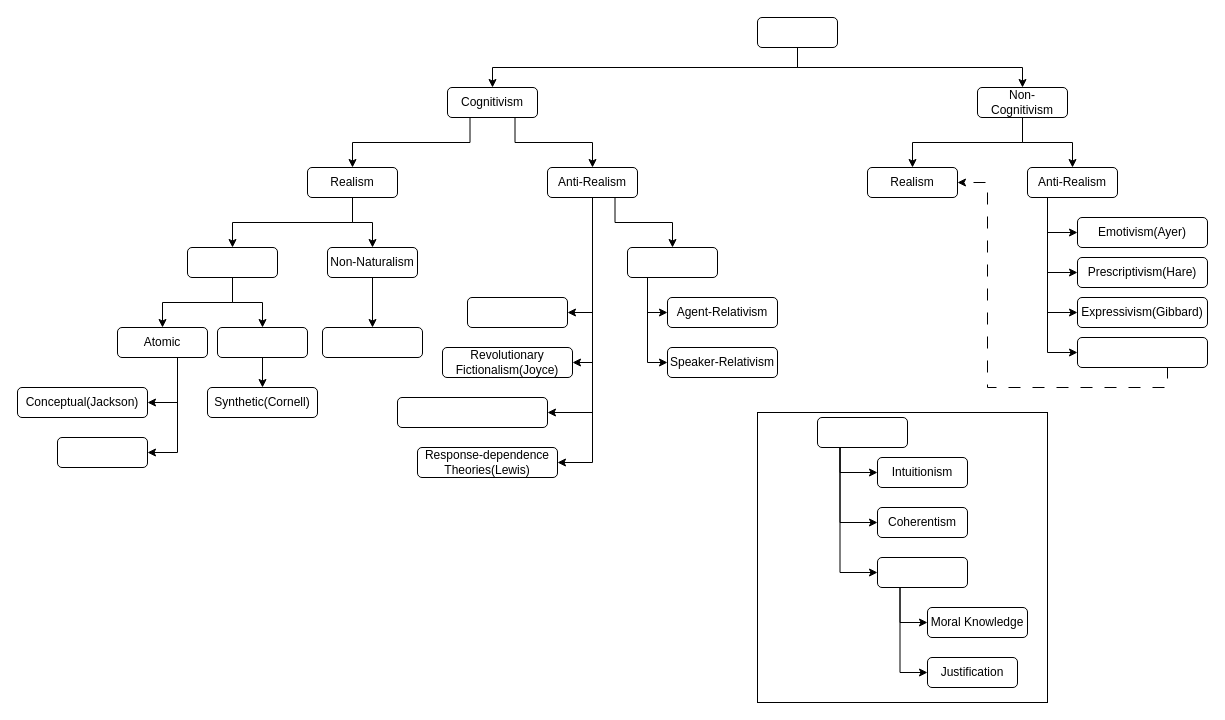
Image size: 1225x720. Some labels were removed from this diagram. The centre of each missing label's shape, as x and y in pixels:
Constructivism(Korsgaar): (472,412)
Divine Command Theory: (372,342)
Epistemology: (862,432)
Error-Theory(Mackie): (517,312)
Metaethics: (797,32)
Moral-Skeptic: (922,572)
Naturalism: (232,262)
Non-Atomic: (262,342)
Quasi-Realism(Blackburn): (1142,352)
Railton: (102,452)
Relativism: (672,262)
